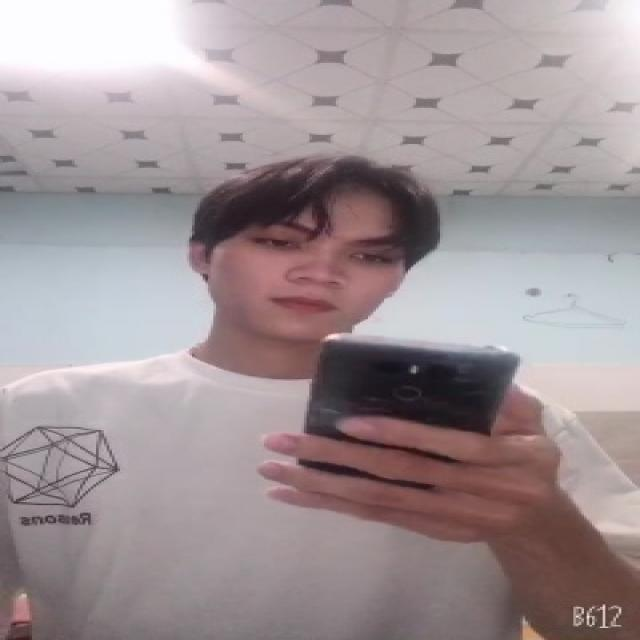Phone: (296, 333, 527, 479)
